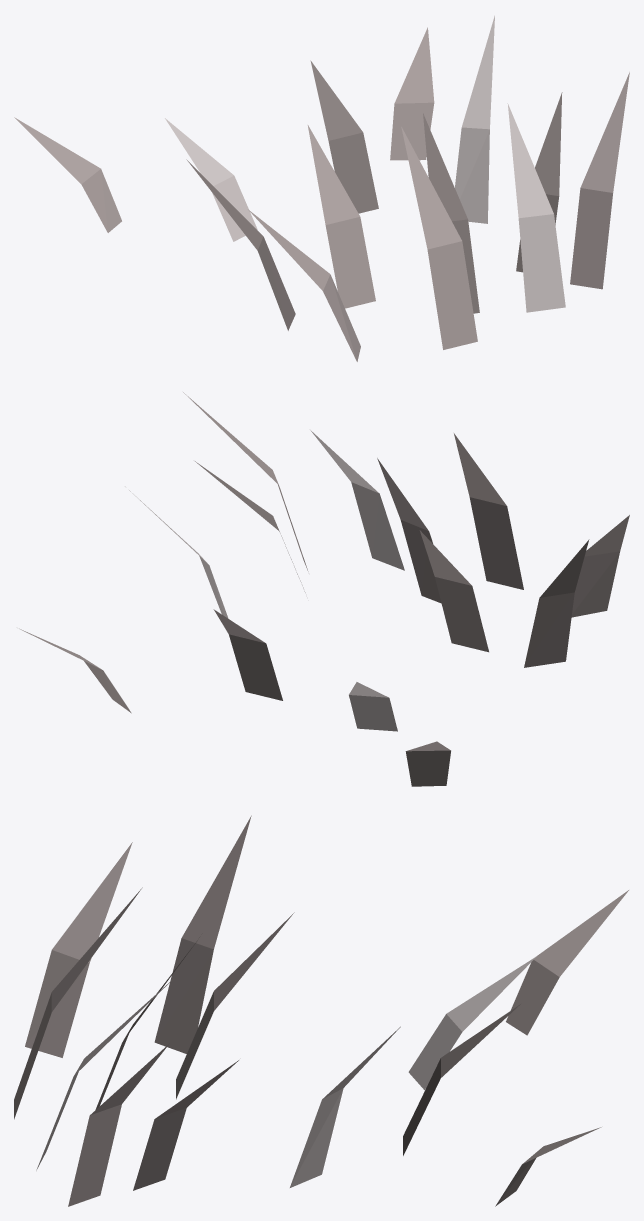
3 views of the same model, one above another, from view 1: azimuth 30°, elevation 25°; view 2: azimuth 150°, elevation 25°; view 3: azimuth 270°, elevation 25° (orthographic). The views are drawn at different scales.
Size of the model in its own units: 110 by 45 by 114.
1 material, 1 textured.
